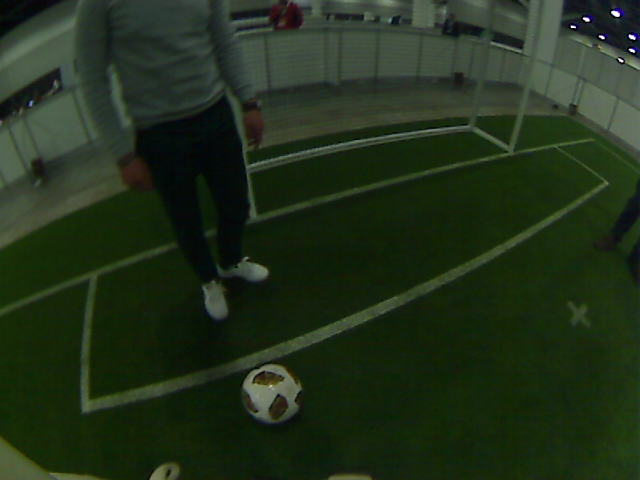ball: (251, 373, 291, 413)
goalpost: (490, 91, 530, 151), (245, 159, 264, 221)
